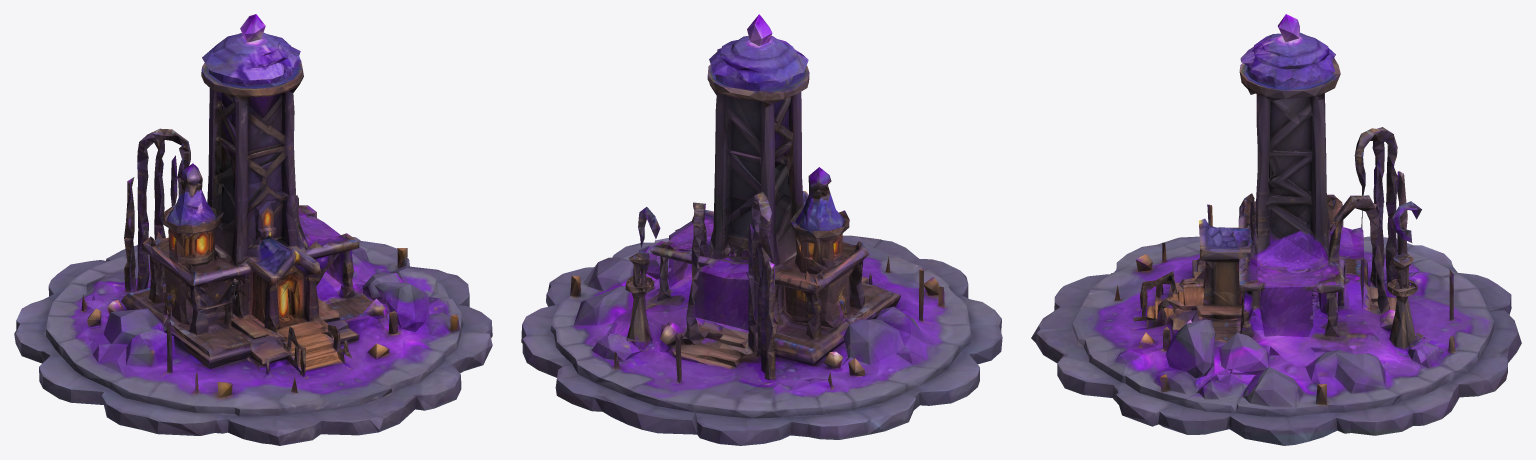
File: бурильная_н_0613211608_texture.fbx
3 renders of one model, left to right at view 1: azimuth 30°, elevation 25°; view 2: azimuth 150°, elevation 25°; view 3: azimuth 270°, elevation 25°, orthographic.
Visible parts, largest first — view 1: temp; view 2: temp; view 3: temp.
Boxes of the visible parts, x1,y1,x2,y2 form: temp: (14, 14, 492, 445); temp: (521, 14, 1002, 445); temp: (1031, 14, 1521, 445).
Size of the model in its own units: 198 by 149 by 201.
1 material, 1 textured.
